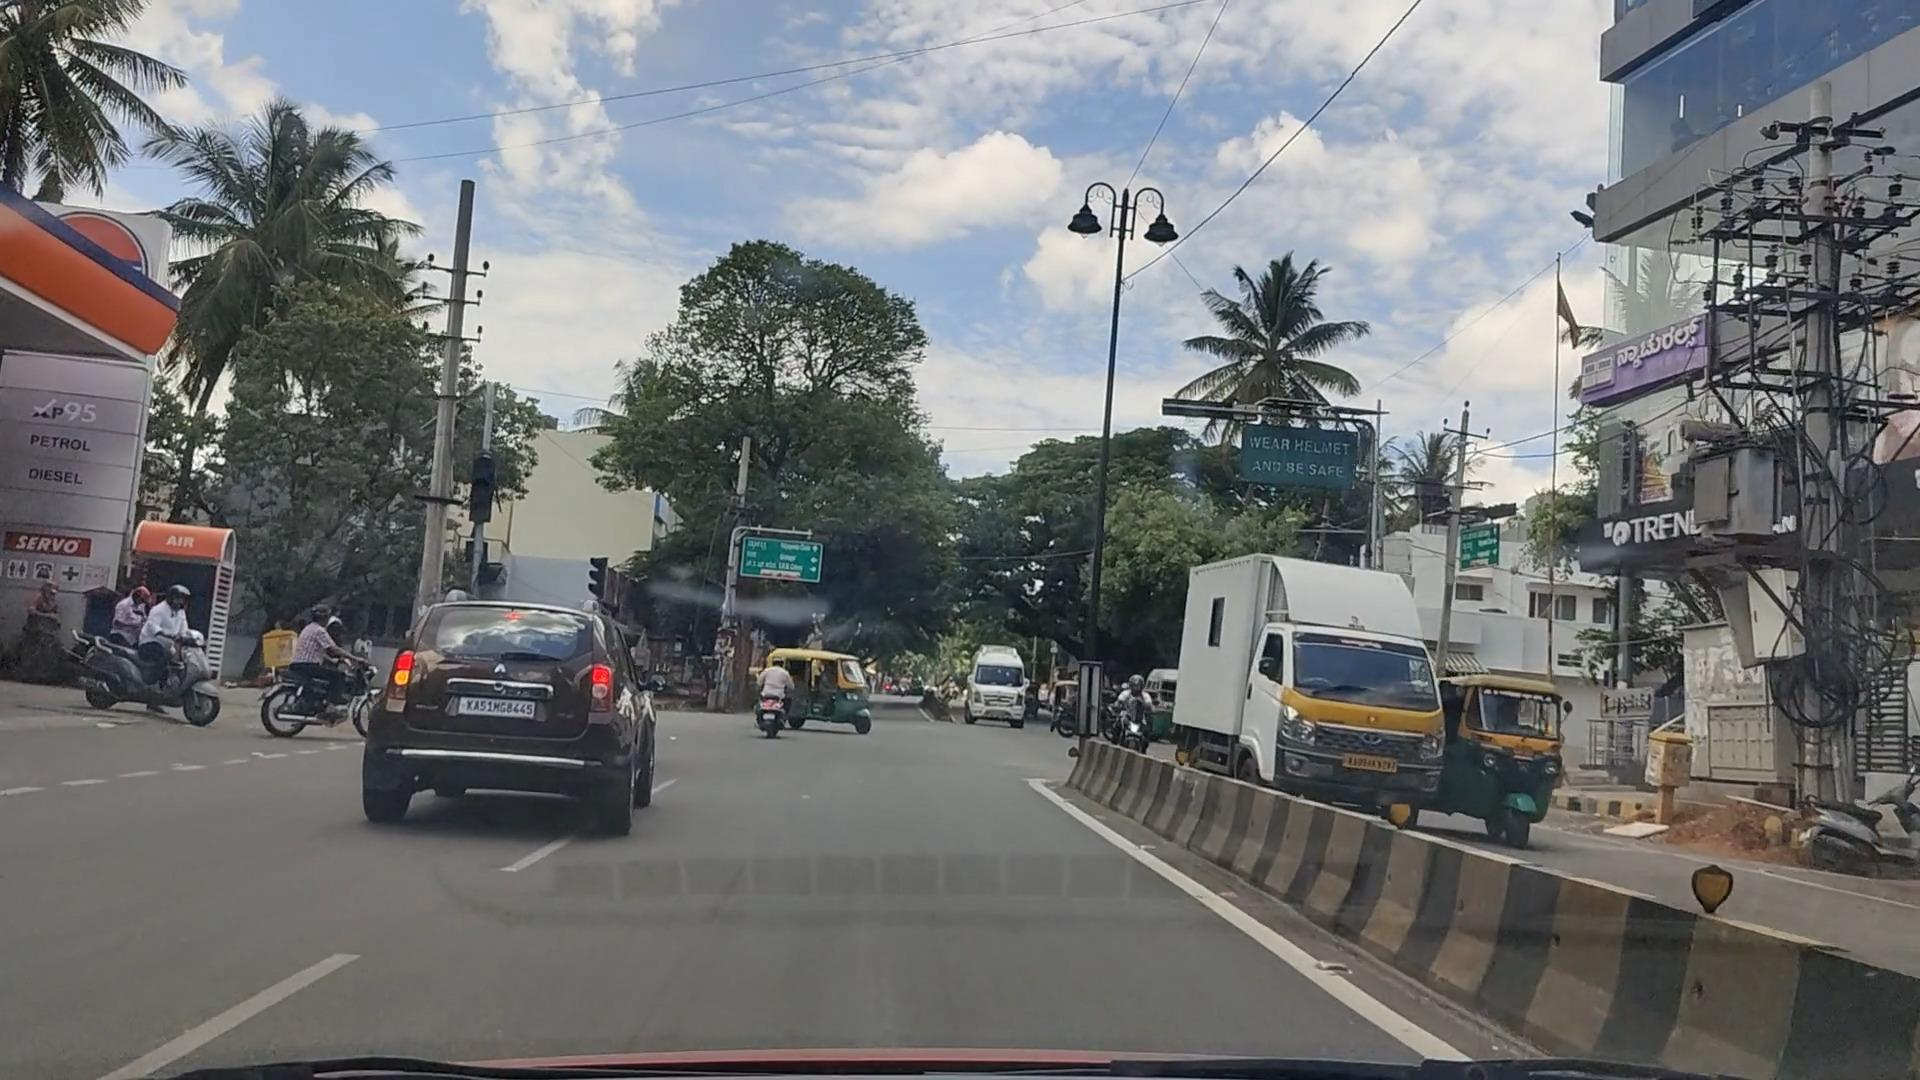LMV: (415, 588, 698, 870), (86, 591, 222, 736), (290, 600, 377, 748)
